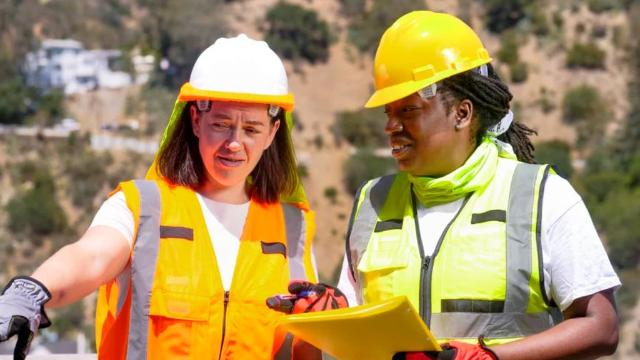helmet: (366, 12, 480, 112), (188, 34, 296, 110)
vest: (369, 166, 556, 360), (111, 180, 306, 360)
